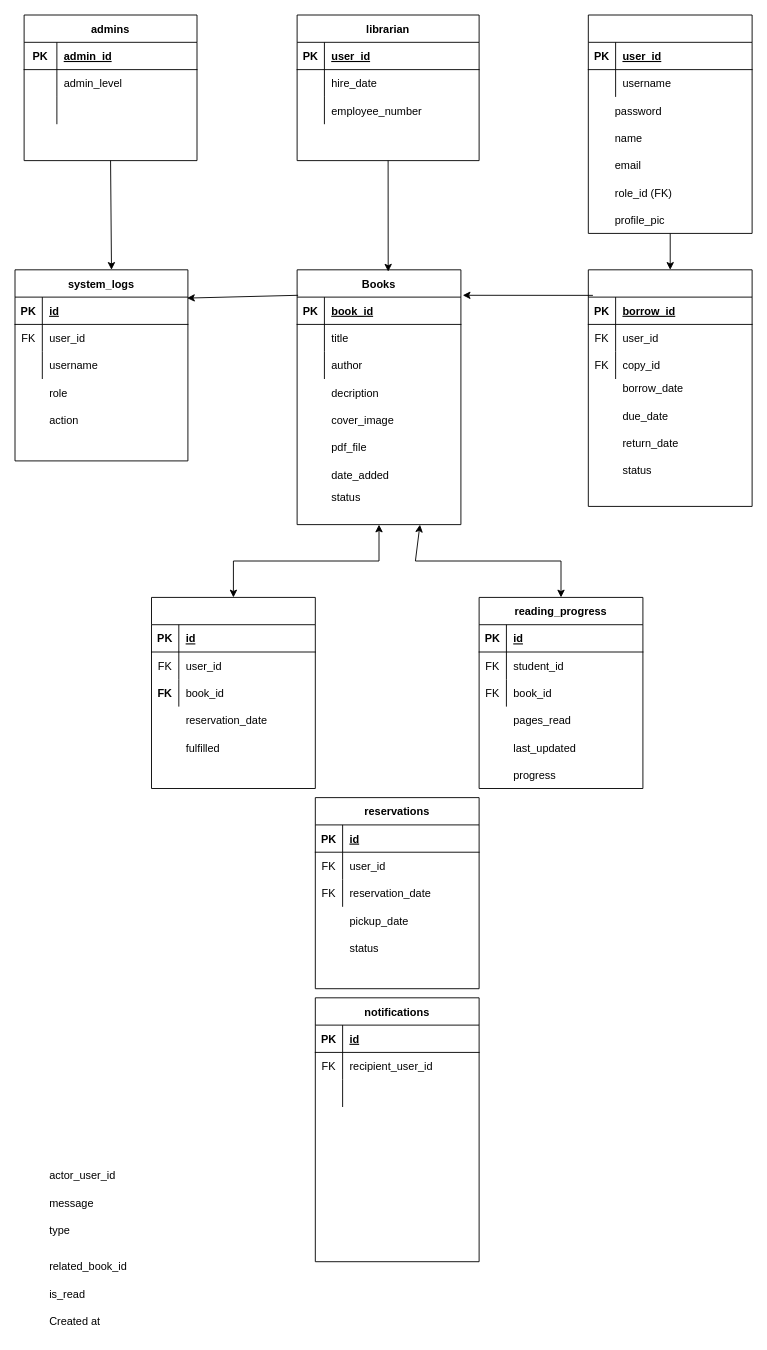
Some shapes in this 767 by 1350 pixel diagram are drawn without their labels. Each missing label, with the box of its shape:
borrowed_booked: (587, 269, 752, 506)
reserved_books: (151, 597, 315, 789)
Users: (587, 14, 752, 233)
